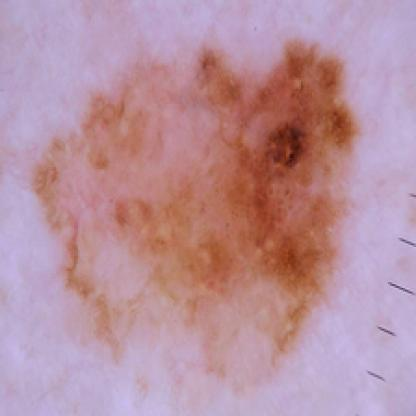Skin_Cancer-Malignant: (30, 35, 362, 395)
